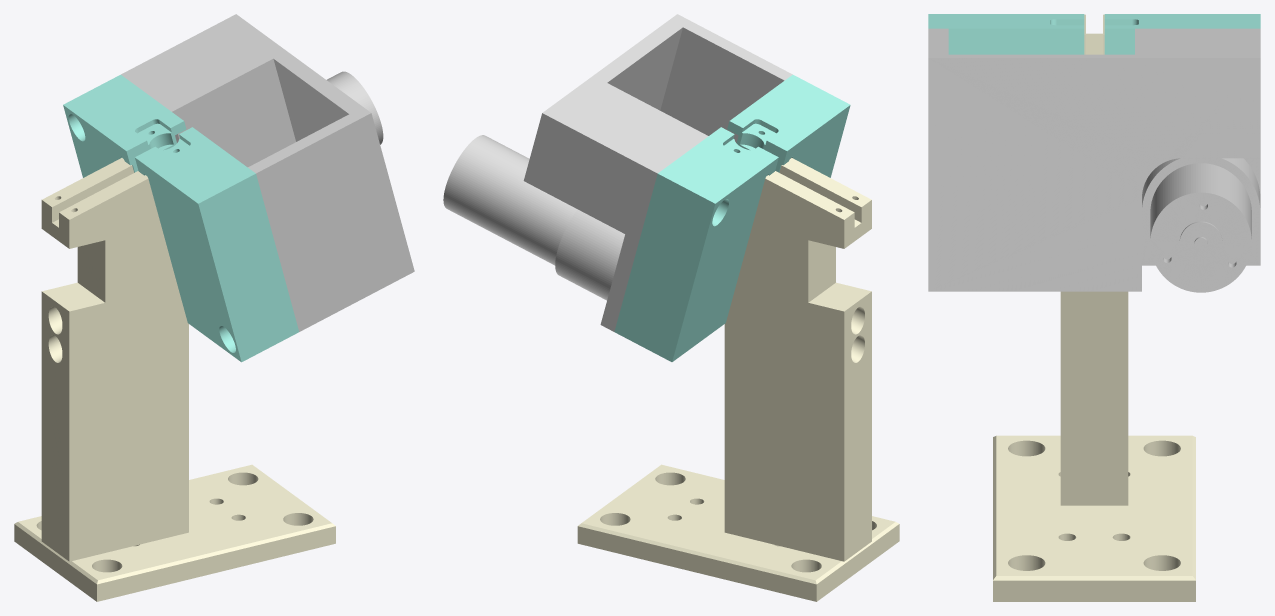
File: BallFeeder.fbx
3 renders of one model, left to right at view 1: azimuth 30°, elevation 25°; view 2: azimuth 150°, elevation 25°; view 3: azimuth 270°, elevation 25°, orthographic. The views are drawn at different scales.
Parts seen in each view (by area): view 1: D112750_B; view 2: D112750_B; view 3: D112750_B.
Part boxes in pixels (x1,y1,x2,y2): D112750_B: (14,14,414,601); D112750_B: (443,14,899,601); D112750_B: (928,14,1260,601).
Size of the model in its own units: 150 by 179 by 98.
